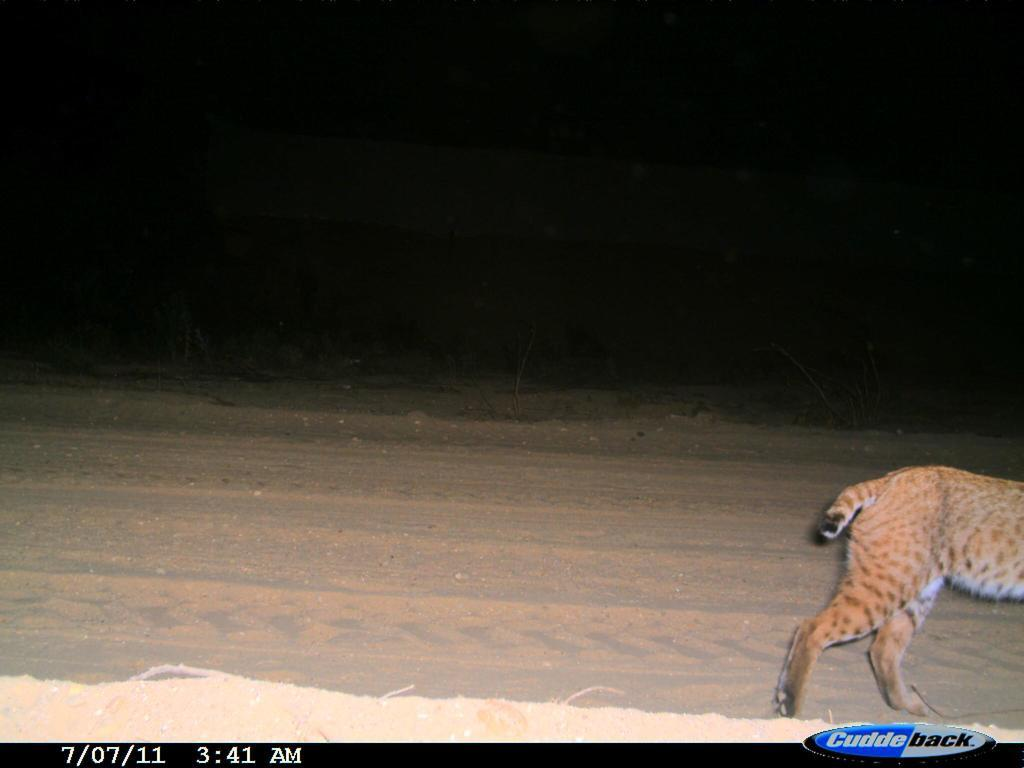bobcat: (774, 459, 1024, 728)
